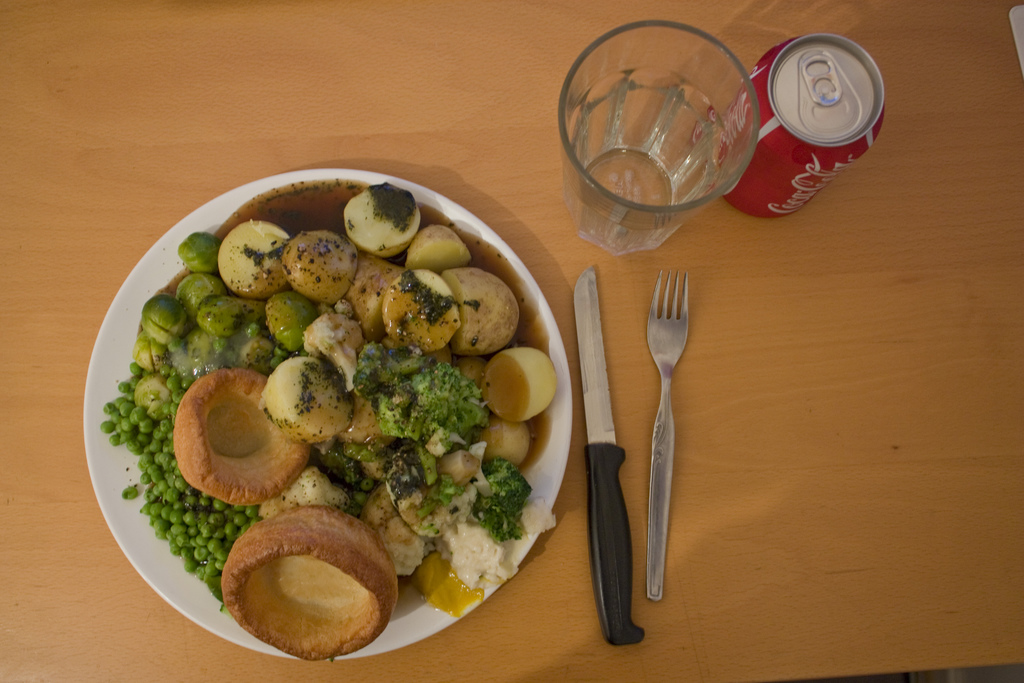boiled peas: (147, 482, 219, 556)
boiled potatoes: (299, 238, 524, 346)
